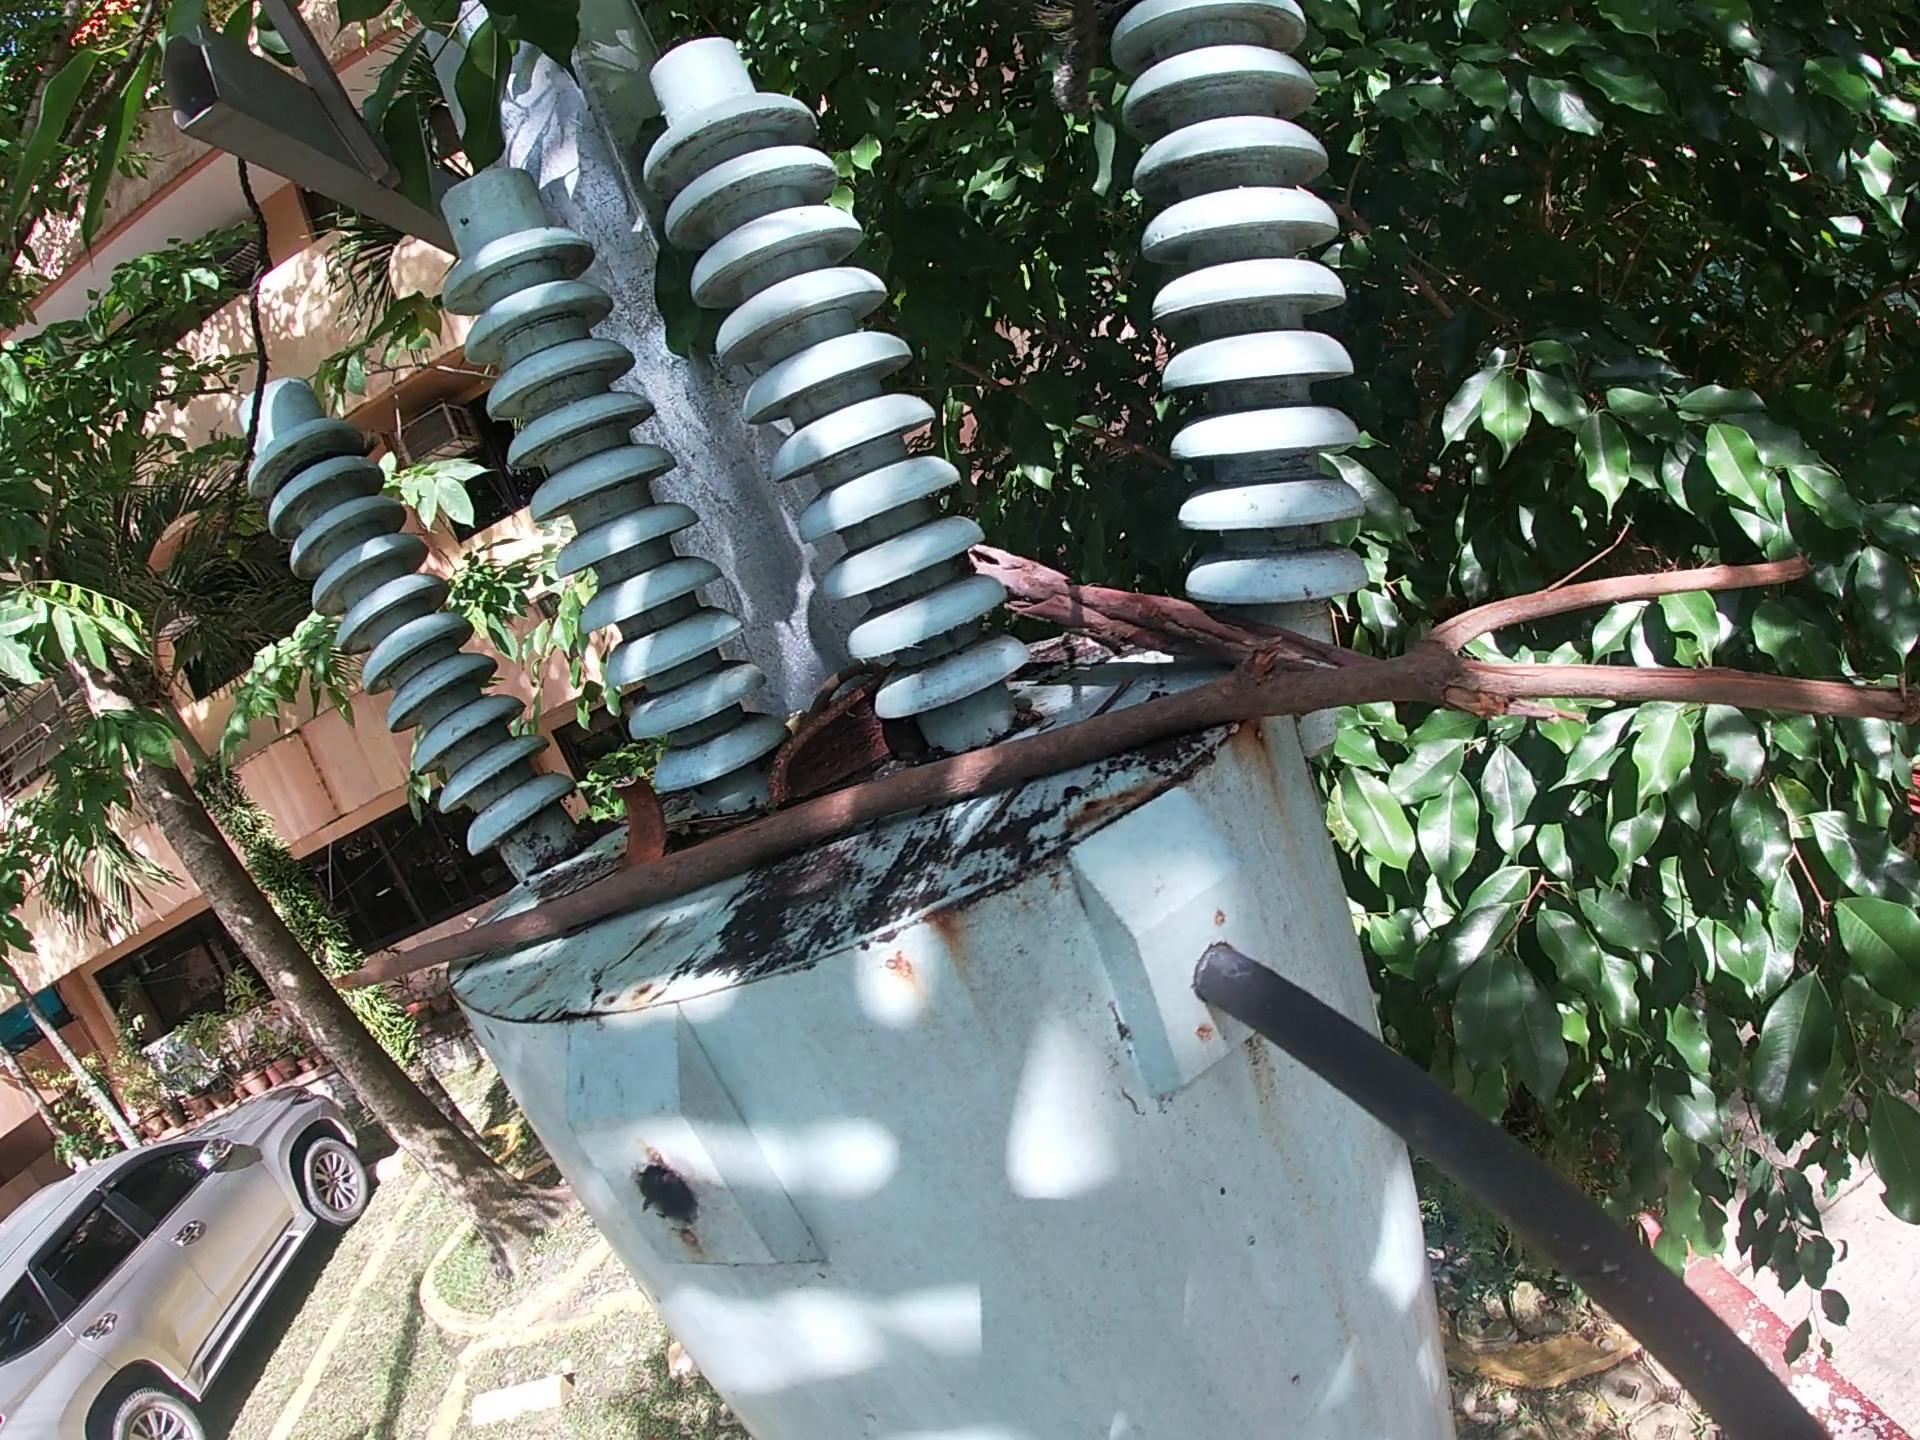mahogany fruit: (766, 690, 897, 812), (614, 771, 671, 877)
tree branch: (336, 560, 1918, 998), (969, 545, 1356, 666), (942, 667, 1150, 888), (794, 661, 871, 731), (679, 803, 763, 836)
